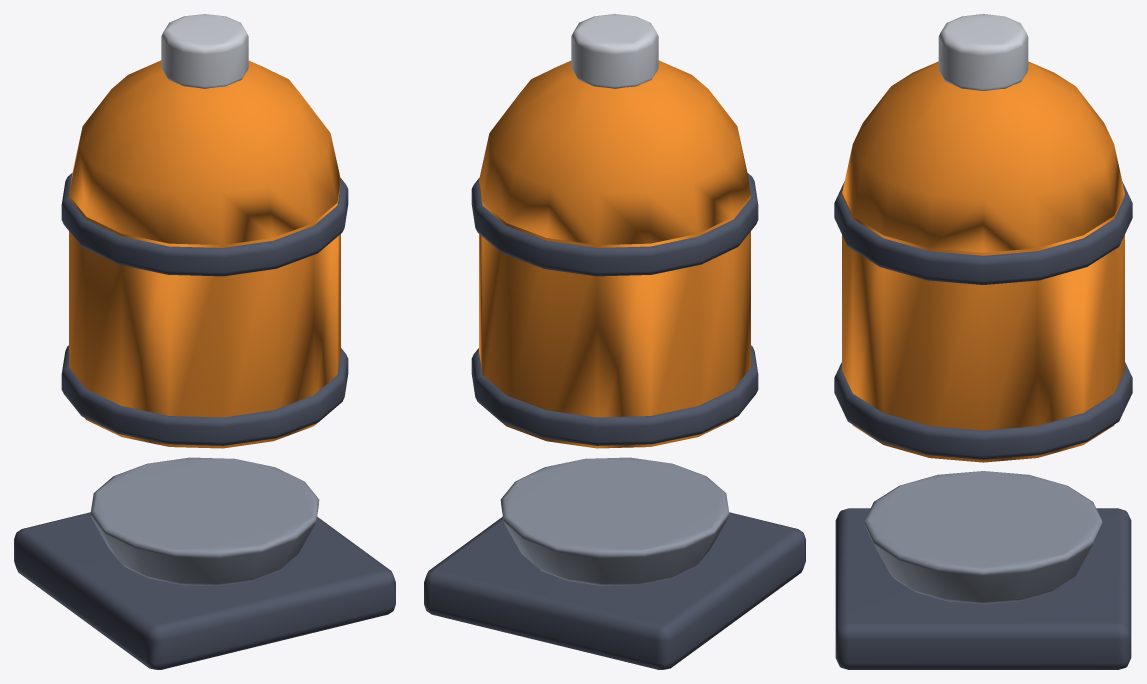
File: Part_FuelTank.glb
The picture shows the model from 3 angles, left to right: view 1: azimuth 30°, elevation 25°; view 2: azimuth 150°, elevation 25°; view 3: azimuth 270°, elevation 25°; orthographic projection. The views are drawn at different scales.
Parts seen in each view (by area): view 1: Part_FuelTank.Shell, Part_FuelTank.Plinth, Part_FuelTank.Cradle, Part_FuelTank.Band1, Part_FuelTank.Band2, Part_FuelTank.Cap; view 2: Part_FuelTank.Shell, Part_FuelTank.Plinth, Part_FuelTank.Cradle, Part_FuelTank.Band1, Part_FuelTank.Band2, Part_FuelTank.Cap; view 3: Part_FuelTank.Shell, Part_FuelTank.Plinth, Part_FuelTank.Cradle, Part_FuelTank.Band1, Part_FuelTank.Band2, Part_FuelTank.Cap.
Part boxes in pixels (x1=…): Part_FuelTank.Shell: x1=69, y1=60, x2=340, y2=448; Part_FuelTank.Plinth: x1=14, y1=512, x2=395, y2=669; Part_FuelTank.Cradle: x1=90, y1=457, x2=319, y2=585; Part_FuelTank.Band1: x1=61, y1=173, x2=348, y2=276; Part_FuelTank.Band2: x1=61, y1=345, x2=348, y2=445; Part_FuelTank.Cap: x1=161, y1=14, x2=248, y2=88; Part_FuelTank.Shell: x1=479, y1=60, x2=750, y2=448; Part_FuelTank.Plinth: x1=424, y1=512, x2=805, y2=669; Part_FuelTank.Cradle: x1=500, y1=457, x2=729, y2=585; Part_FuelTank.Band1: x1=471, y1=173, x2=758, y2=276; Part_FuelTank.Band2: x1=471, y1=345, x2=758, y2=445; Part_FuelTank.Cap: x1=571, y1=14, x2=658, y2=88; Part_FuelTank.Shell: x1=842, y1=61, x2=1124, y2=462; Part_FuelTank.Plinth: x1=835, y1=508, x2=1131, y2=669; Part_FuelTank.Cradle: x1=864, y1=471, x2=1102, y2=604; Part_FuelTank.Band1: x1=834, y1=181, x2=1132, y2=284; Part_FuelTank.Band2: x1=834, y1=362, x2=1132, y2=459; Part_FuelTank.Cap: x1=938, y1=14, x2=1028, y2=90.
Bounding box in the file's own units: 0.464 × 1 × 0.464.
1 material, 1 textured.
